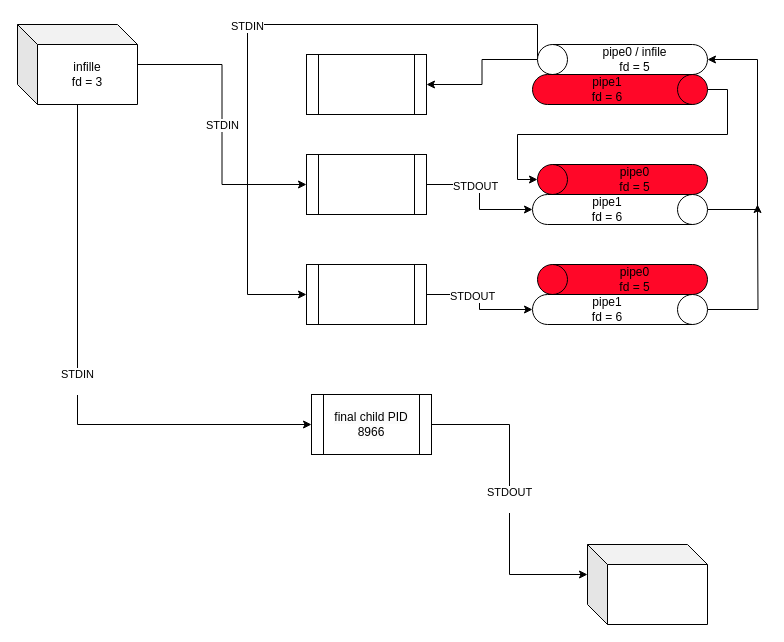
Some shapes in this 784 by 642 pixel diagram are drawn without their labels. The shapes that lost their labels are listed below. From the top down, each one's centre as x and y in pixels, then its label:
point (366, 84): parent PID 8963
point (366, 184): child 1 PID 8964
point (366, 294): child 2 PID 8965
point (647, 584): outfile fd = 4
